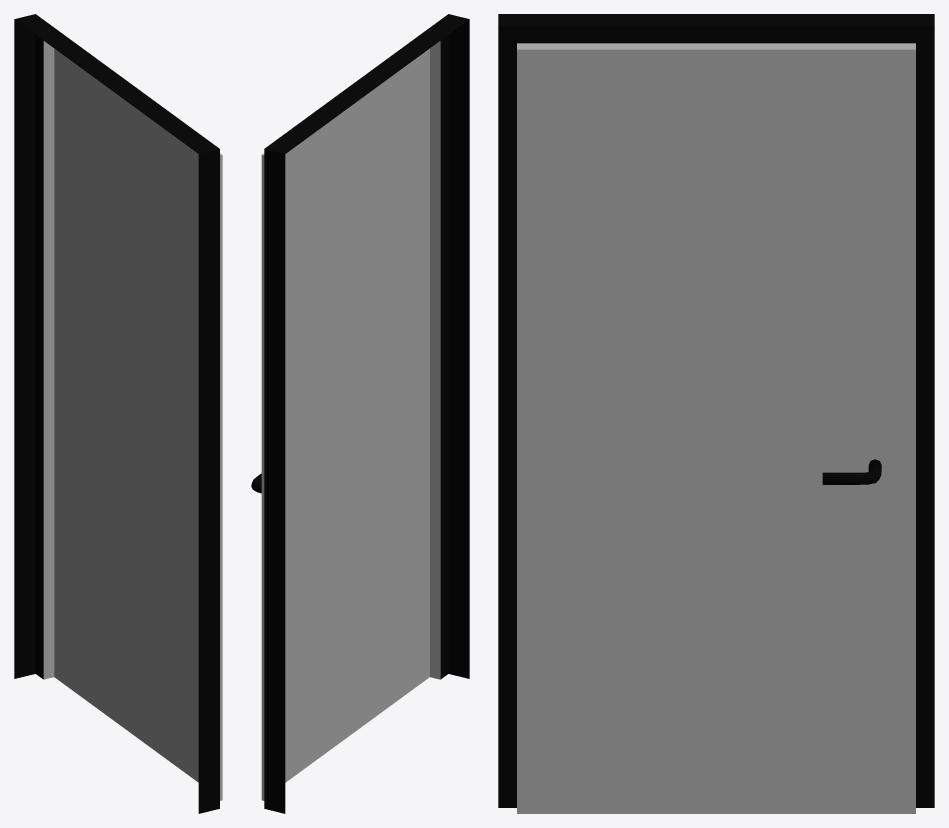
File: door.glb
3 views of the same model, side by side, from view 1: azimuth 30°, elevation 25°; view 2: azimuth 150°, elevation 25°; view 3: azimuth 270°, elevation 25° (orthographic). The views are drawn at different scales.
Visible parts, largest first — view 1: door; view 2: door; view 3: door.
Boxes of the visible parts, box(x1,y1,x2,y2) form: door: box(14, 14, 222, 813); door: box(251, 14, 469, 813); door: box(498, 14, 934, 813).
Size of the model in its own units: 0.584 by 5.93 by 3.
Materials: 1 (1 with a texture image).
